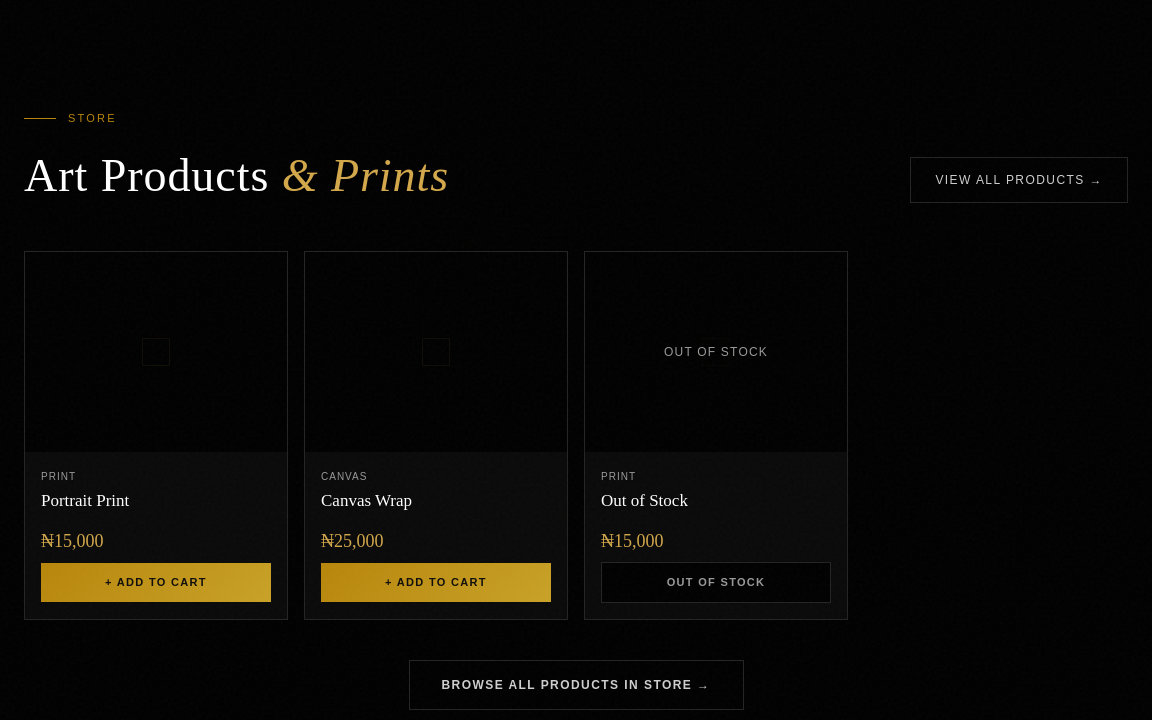
Test: HomeProductSection › modal displays the correct product details
Click the element with test id "product-card-2": point(436, 435) [304,251,568,620]
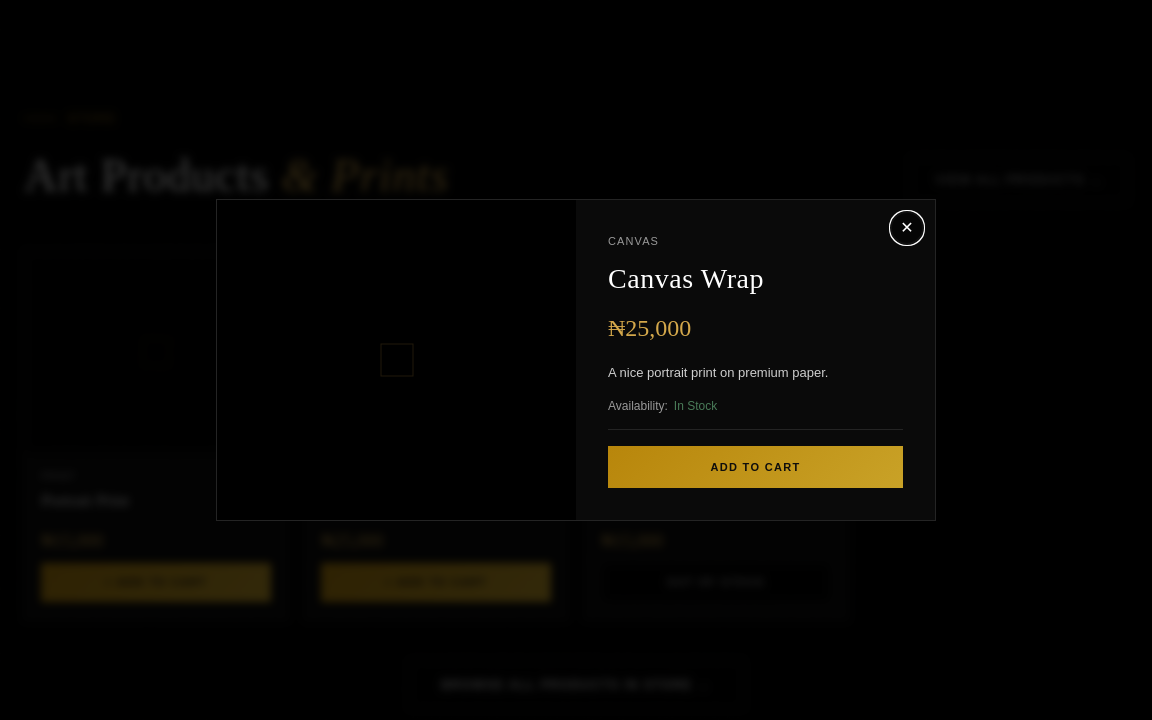
Expected: the heading with test id "modal-name" reads "Canvas Wrap", [608,263,764,294]
Expected: the text with test id "modal-price" reads "₦25,000", [608,315,691,341]
